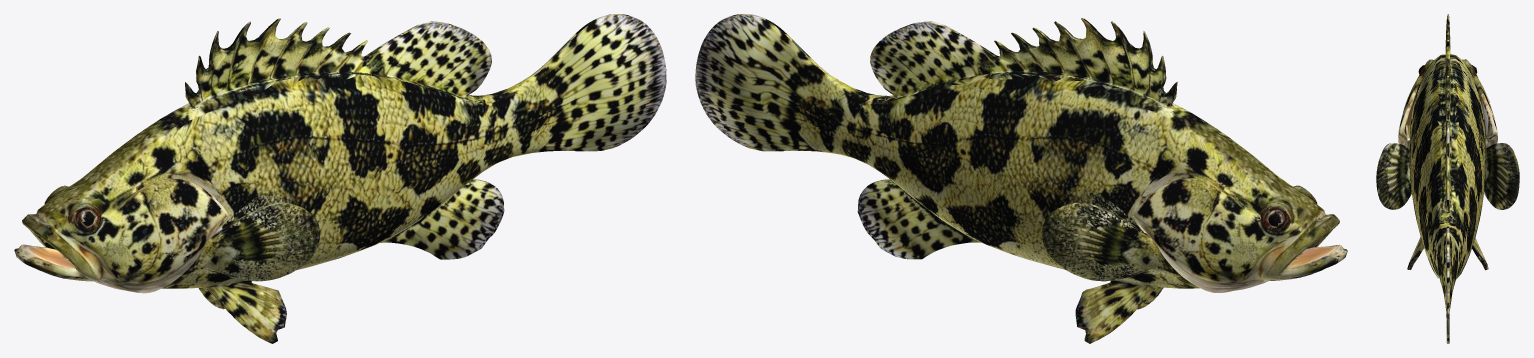
Rendered from mandarin.glb.
The picture shows the model from 3 angles, left to right: view 1: azimuth 30°, elevation 25°; view 2: azimuth 150°, elevation 25°; view 3: azimuth 270°, elevation 25°; orthographic projection. The views are drawn at different scales.
Parts seen in each view (by area): view 1: mandarin; view 2: mandarin; view 3: mandarin.
Part boxes in pixels (box(x1,y1,x2,y2)): mandarin: box(14, 14, 666, 343); mandarin: box(695, 14, 1347, 343); mandarin: box(1376, 14, 1519, 343).
Size of the model in its own units: 1 by 0.449 by 0.2383.
Materials: 1 (1 with a texture image).
